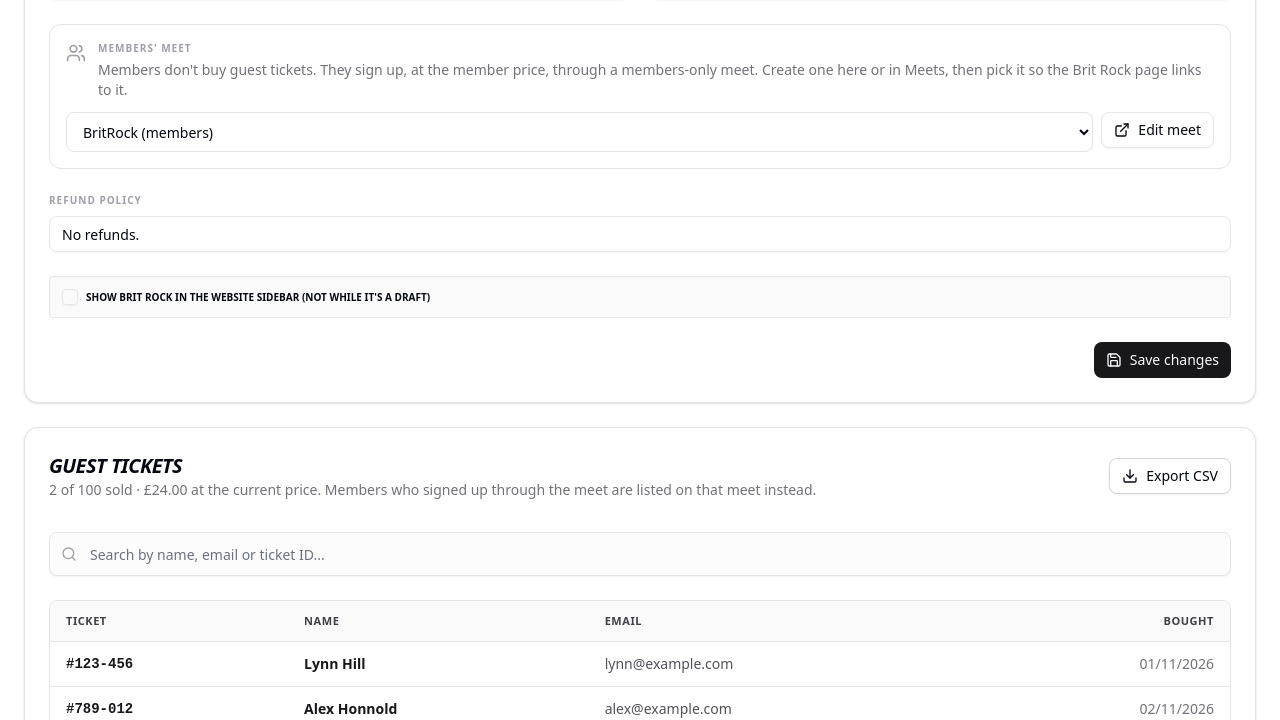
Test: BritRock committee page — editing › shows the server error when saving fails
(page scrolled)
Click the button "Save changes" at [1162, 360], box 1094,342 -> 1231,378
(page scrolled)
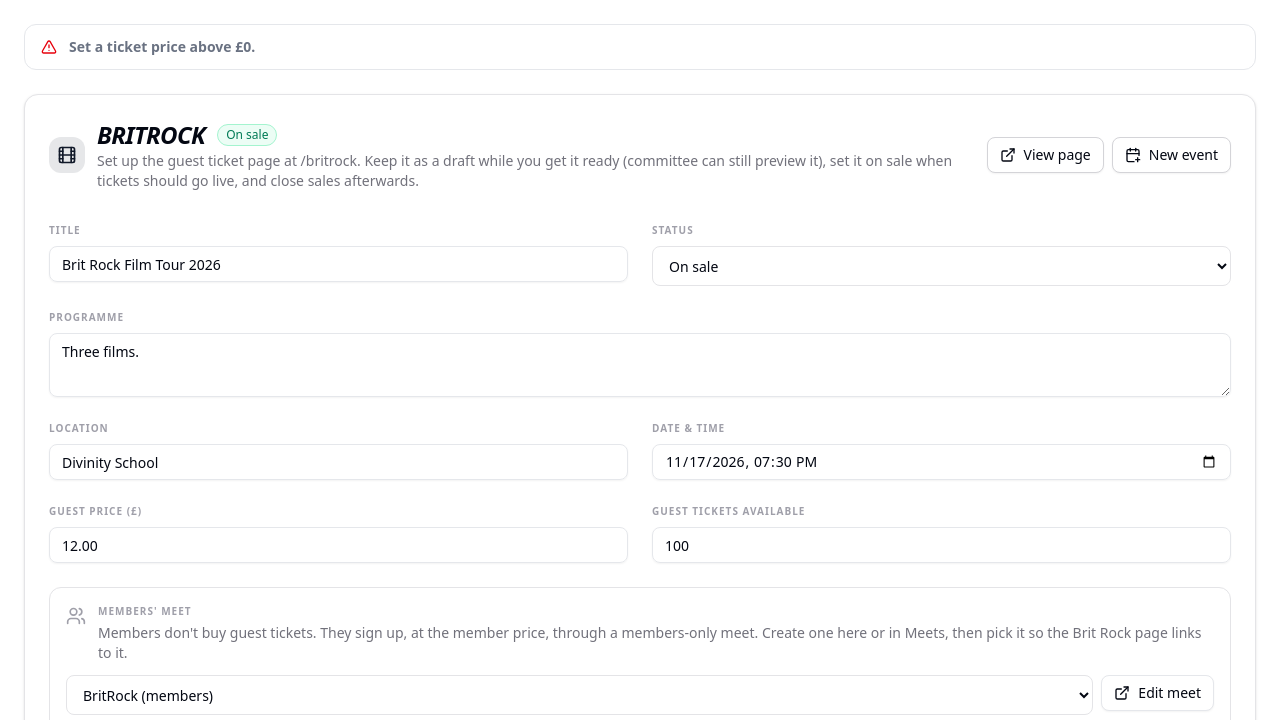
Now the text "Set a ticket price above £0." is shown, box 69,37 -> 255,56
